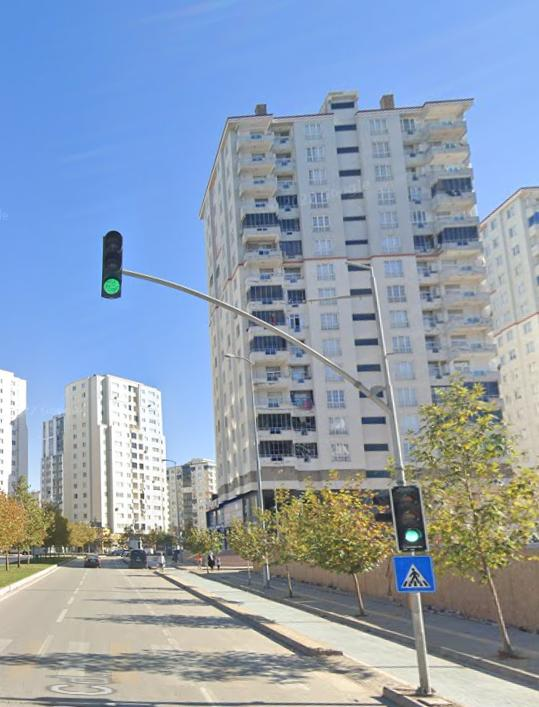greenlight: (391, 483, 428, 549), (102, 231, 122, 299)
